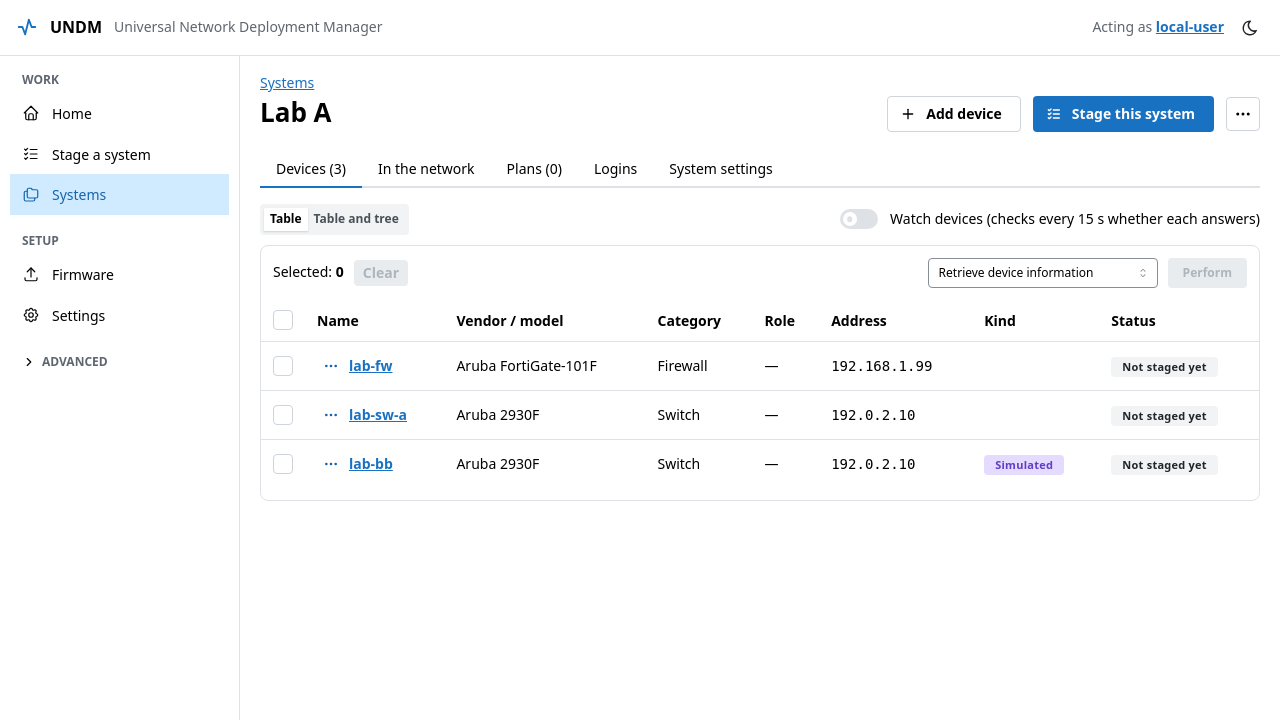
Test case: device menu, tree and watch (D-099) › the system tree groups devices by kind and shares its tick boxes with the table
The width and height of the screenshot is (1280, 720).
Note: D-122: the tree is shown beside the table on request, remembered.
Click the radio button labelled "Table and tree".
click(356, 219)  # box 308,208 -> 405,231
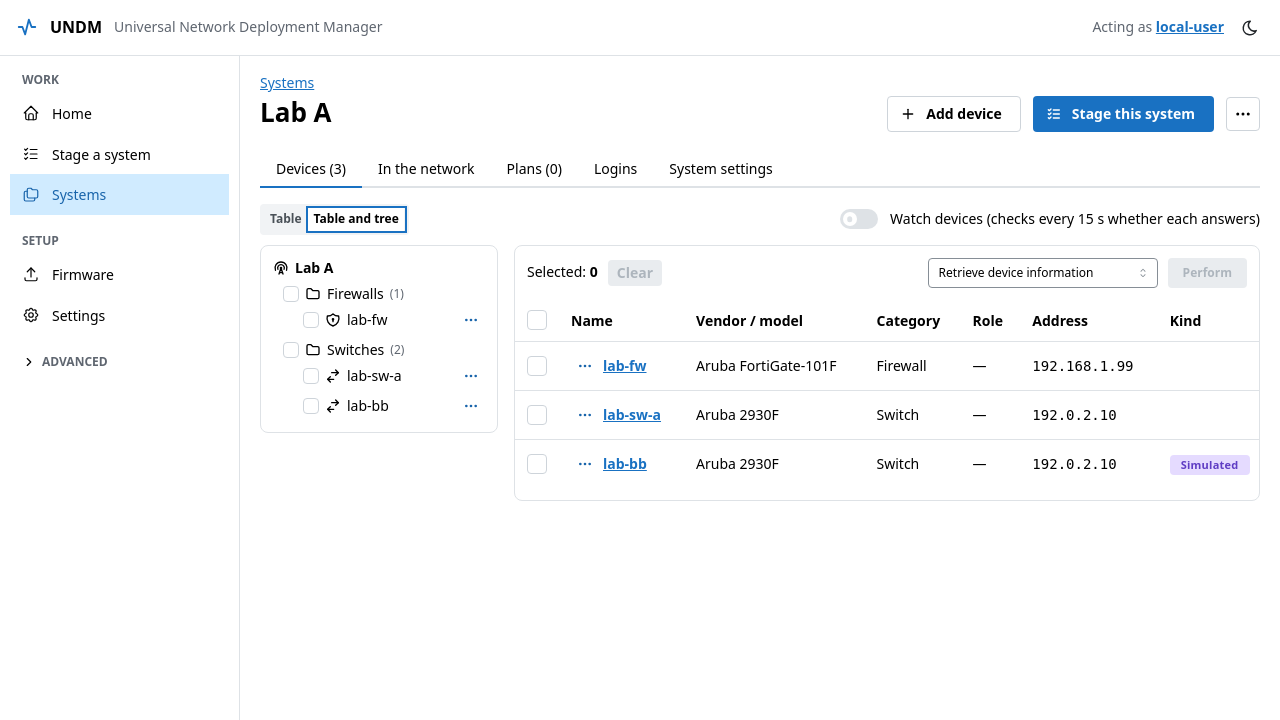
expect the text "Firewalls" is shown: met, box 327,284 -> 384,304
expect the text "Switches" is shown: met, box 327,340 -> 384,360
Click the checkbox named "Select all switches".
click(291, 350)  # box 283,342 -> 299,358
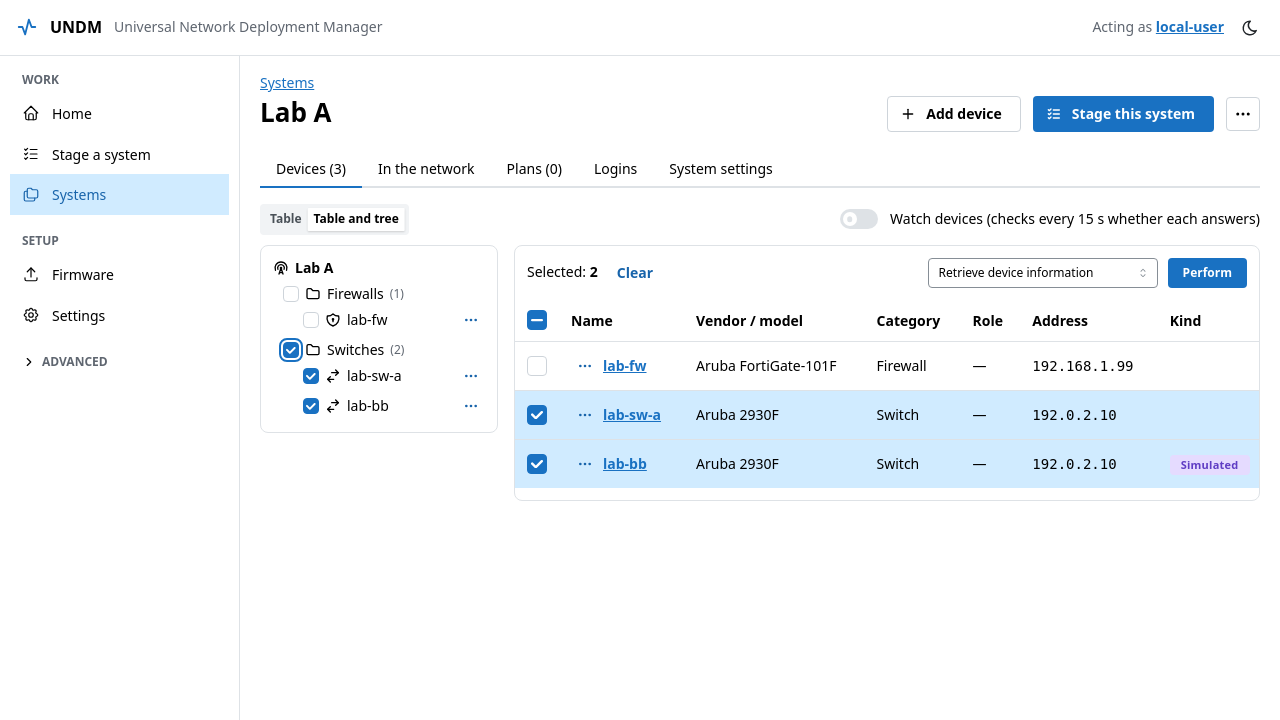
expect the text "Selected: 2" is shown: met, box 527,262 -> 598,283
